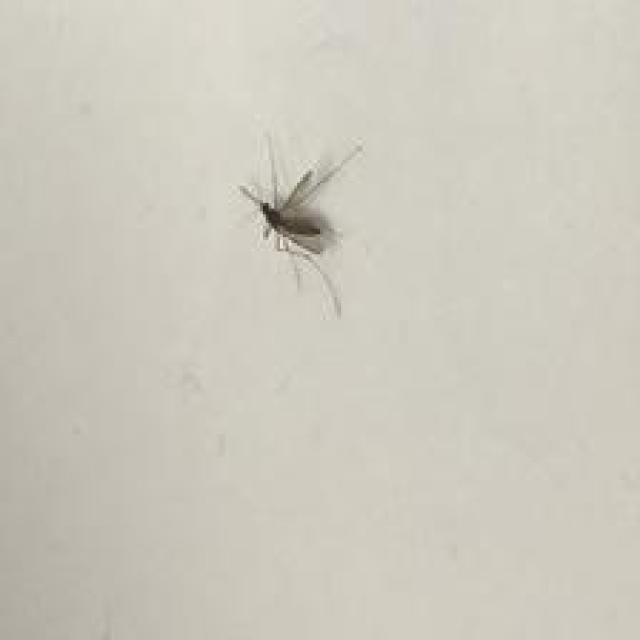Culex: (236, 129, 364, 317)
